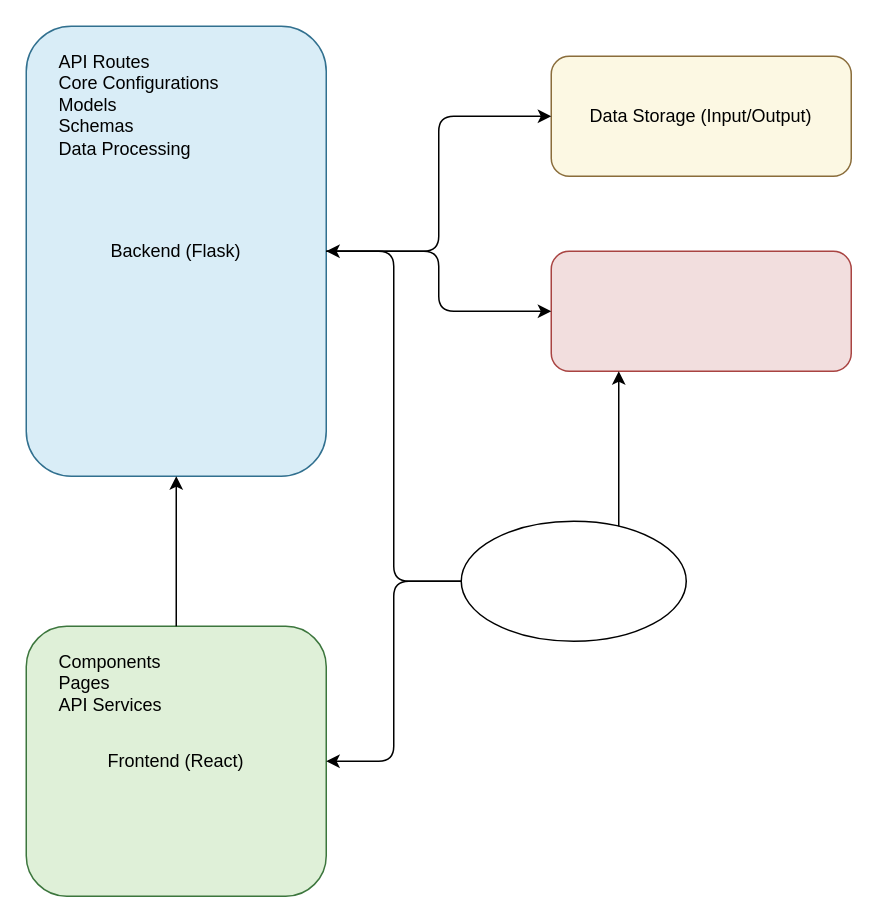
The diagram is 878 pixels wide and 923 high, and some of its shapes have lost their labels. Here are the shapes that lost their labels. From the top down, the centre of each, then its label:
At (x=700, y=310): "Database (PostgreSQL)".
At (x=573, y=580): "Docker Orchestration".
